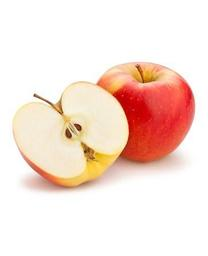apple: (13, 81, 129, 186), (96, 61, 195, 162)
